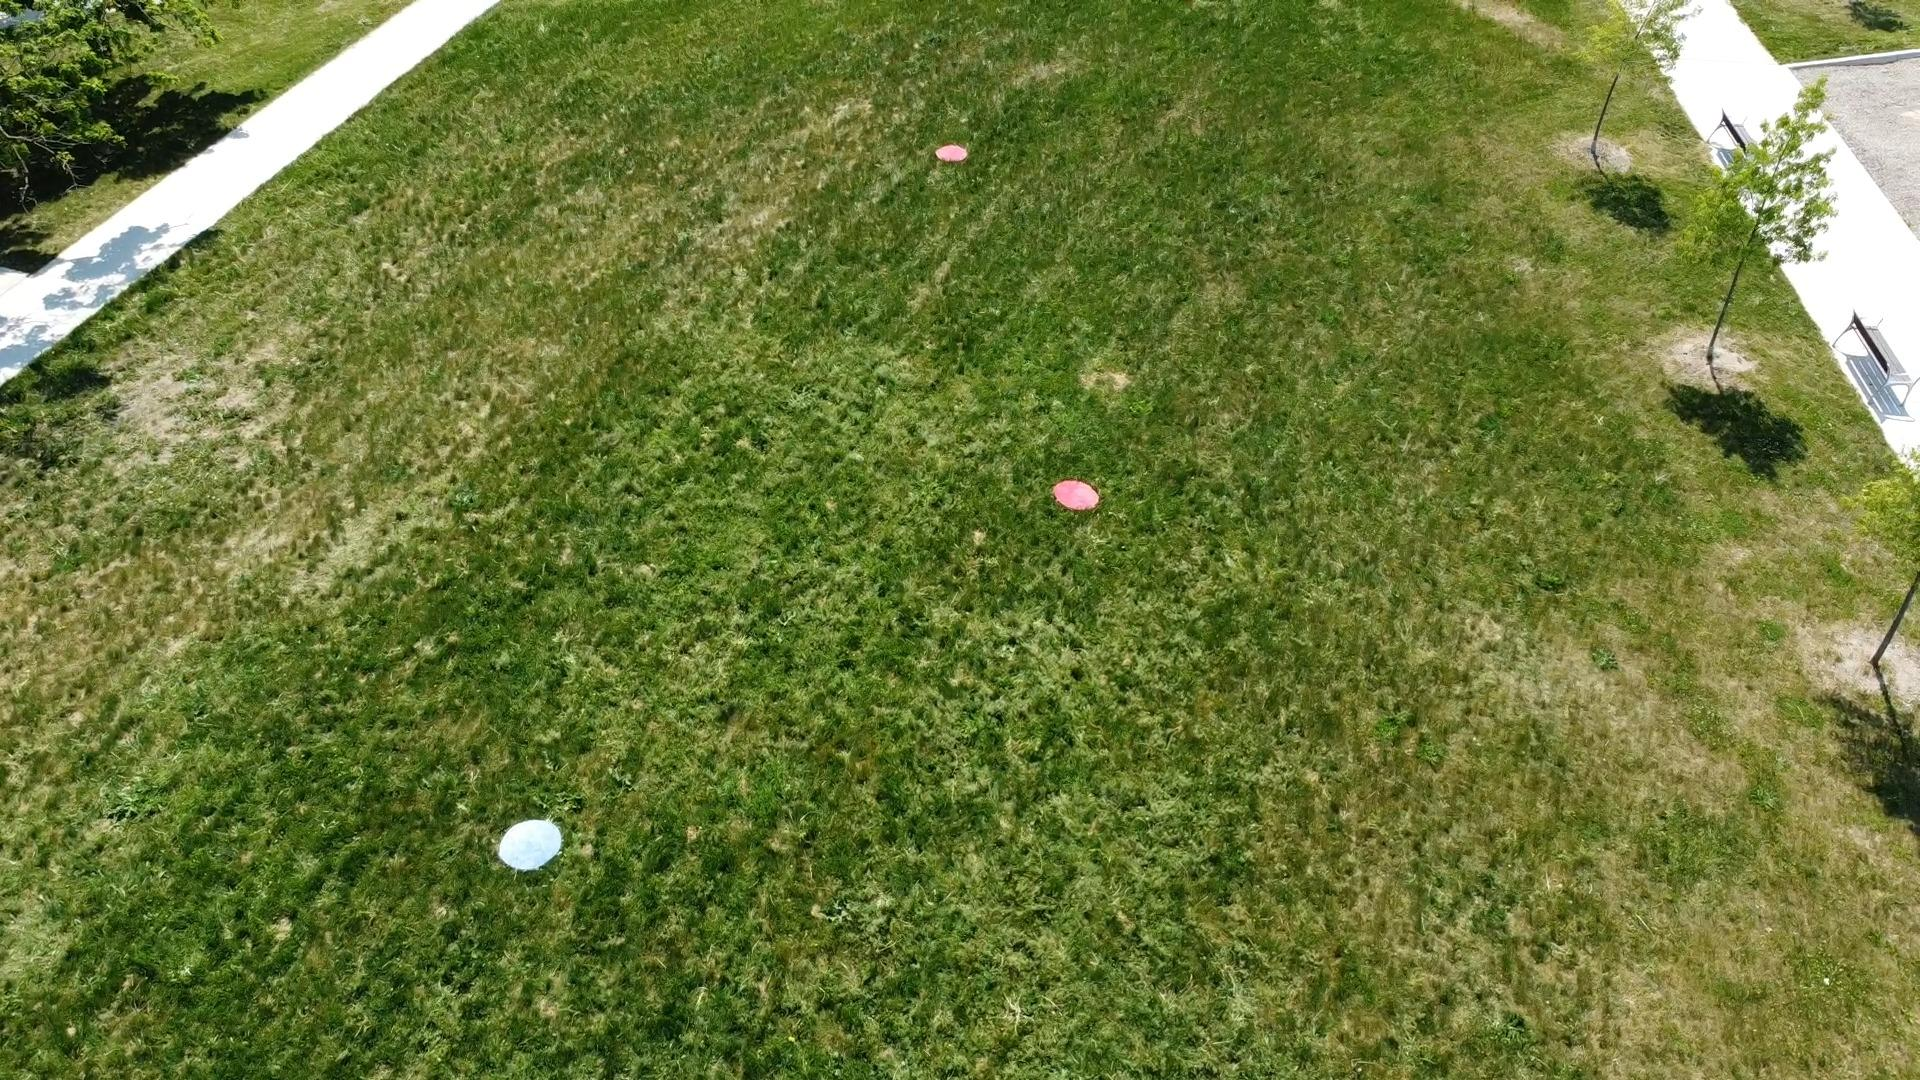Blue: (496, 815, 564, 874)
Red: (1048, 477, 1104, 513), (934, 142, 968, 165)
